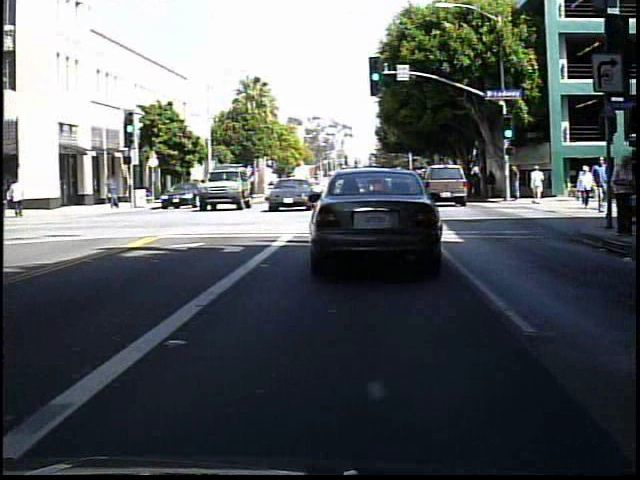person: (610, 153, 637, 240), (592, 152, 610, 215), (574, 165, 595, 213), (505, 160, 526, 206), (528, 164, 546, 206), (12, 177, 29, 220), (105, 174, 123, 211), (471, 171, 483, 202), (1, 181, 11, 218), (486, 169, 497, 200)
